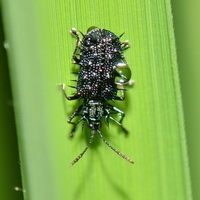insect: (62, 27, 133, 165)
